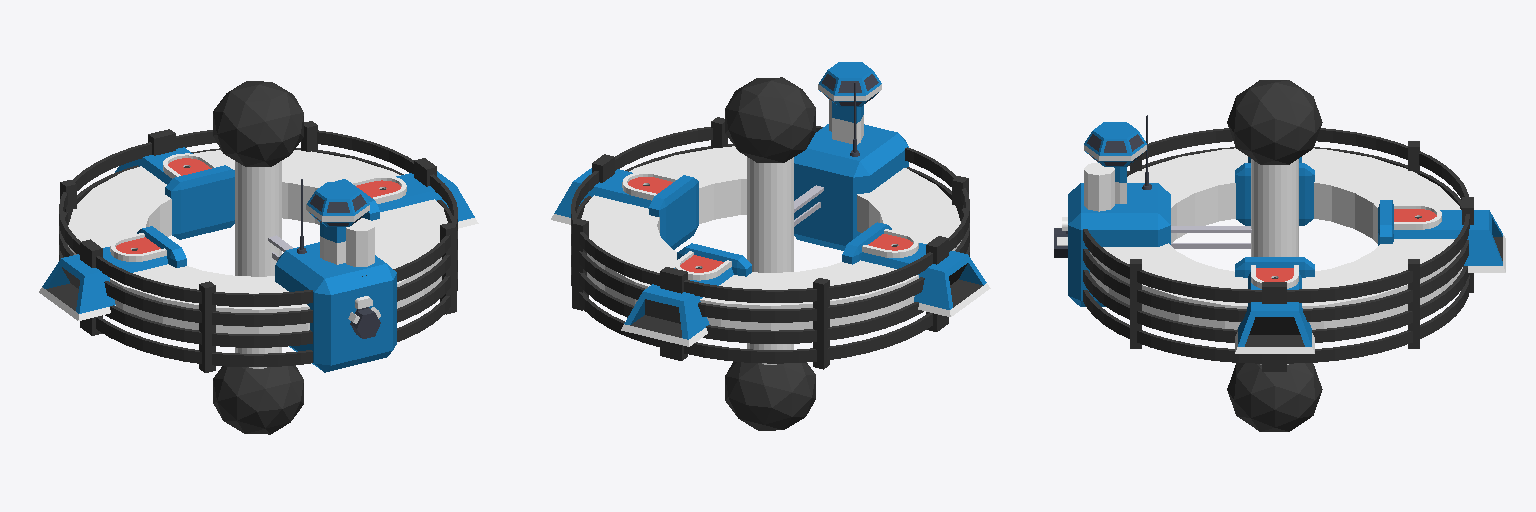
File: SpaceStationD0-NT.obj
The picture shows the model from 3 angles: view 1: azimuth 30°, elevation 25°; view 2: azimuth 150°, elevation 25°; view 3: azimuth 270°, elevation 25°; orthographic projection.
Parts seen in each view (by area): view 1: cylinder_hollow_4, block_rounded_5, fence_woodRound%_21, sphere_vertex_8, fence_woodRound%_24, sphere_vertex_28, cylinder_full_7, block_rounded_46, engine_intake_15, fence_woodRound%_22, fence_woodRound%_20, fence_woodRound%_19 (+11 smaller); view 2: cylinder_hollow_4, block_rounded_5, fence_woodRound%_19, fence_woodRound%_23, sphere_vertex_8, cylinder_full_7, sphere_vertex_28, fence_woodRound%_20, engine_intake_14, engine_intake_15, block_rounded_44, fence_woodRound%_21 (+10 smaller); view 3: cylinder_hollow_4, sphere_vertex_8, block_rounded_5, fence_woodRound%_20, fence_woodRound%_22, fence_woodRound%_27, sphere_vertex_28, fence_woodRound%_25, cylinder_full_7, engine_intake_11, engine_intake_14, fence_woodRound%_19 (+9 smaller).
Part boxes in pixels (x1,y1,x2,y2): cylinder_hollow_4: (68,150,447,333); block_rounded_5: (275,242,396,372); fence_woodRound%_21: (86,244,312,341); sphere_vertex_8: (213,81,303,166); fence_woodRound%_24: (86,305,312,372); sphere_vertex_28: (213,365,303,434); cylinder_full_7: (235,161,281,368); block_rounded_46: (165,165,234,239); engine_intake_15: (39,247,167,320); fence_woodRound%_22: (362,163,457,301); fence_woodRound%_20: (159,121,430,181); fence_woodRound%_19: (59,132,164,263); cylinder_hollow_4: (581,146,961,330); block_rounded_5: (794,124,908,250); fence_woodRound%_19: (671,240,942,337); fence_woodRound%_23: (671,302,942,369); sphere_vertex_8: (725,77,815,162); cylinder_full_7: (747,157,793,364); sphere_vertex_28: (725,362,815,430); fence_woodRound%_20: (571,159,676,299); engine_intake_14: (621,267,733,346); engine_intake_15: (861,243,990,316); block_rounded_44: (649,175,698,249); fence_woodRound%_21: (905,147,969,259); cylinder_hollow_4: (1090,148,1460,329); sphere_vertex_8: (1227,80,1322,164); block_rounded_5: (1068,183,1170,306); fence_woodRound%_20: (1275,203,1473,321); fence_woodRound%_22: (1083,229,1274,321); fence_woodRound%_27: (1275,266,1473,371); sphere_vertex_28: (1227,363,1322,431); fence_woodRound%_25: (1083,270,1274,371); cylinder_full_7: (1251,159,1298,364); engine_intake_11: (1235,272,1314,353); engine_intake_14: (1394,210,1505,272); fence_woodRound%_19: (1314,128,1473,209).
Size of the model in its own units: 5.8 by 4.8 by 5.67.